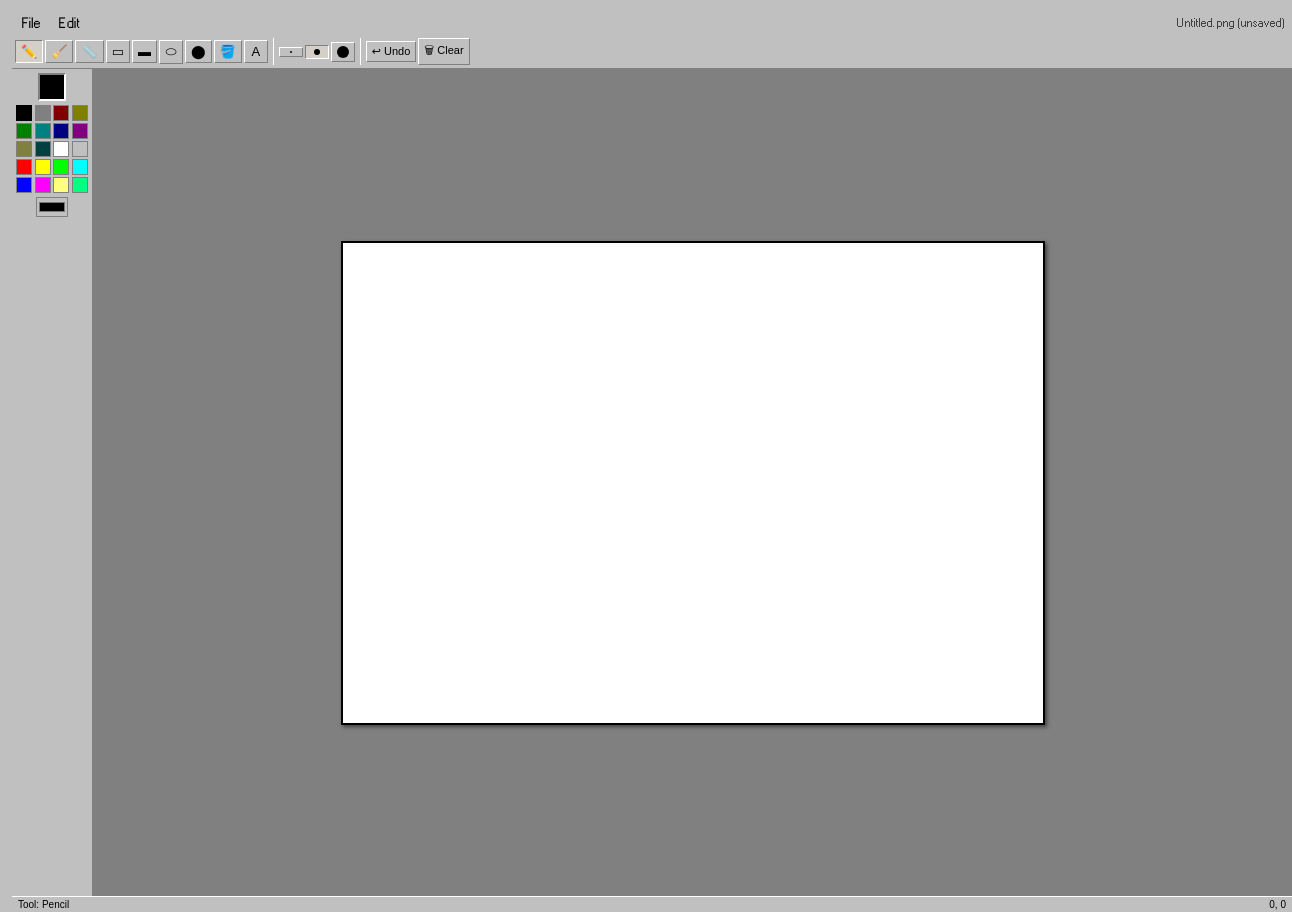
Test: Paint text tool › shows font, size and bold options only while the Text tool is selected
The image size is (1292, 912).
Expected: the field labelled "Bold" is not shown
Click the button named "Text": x=256, y=52 left=244, top=40, right=268, bottom=63
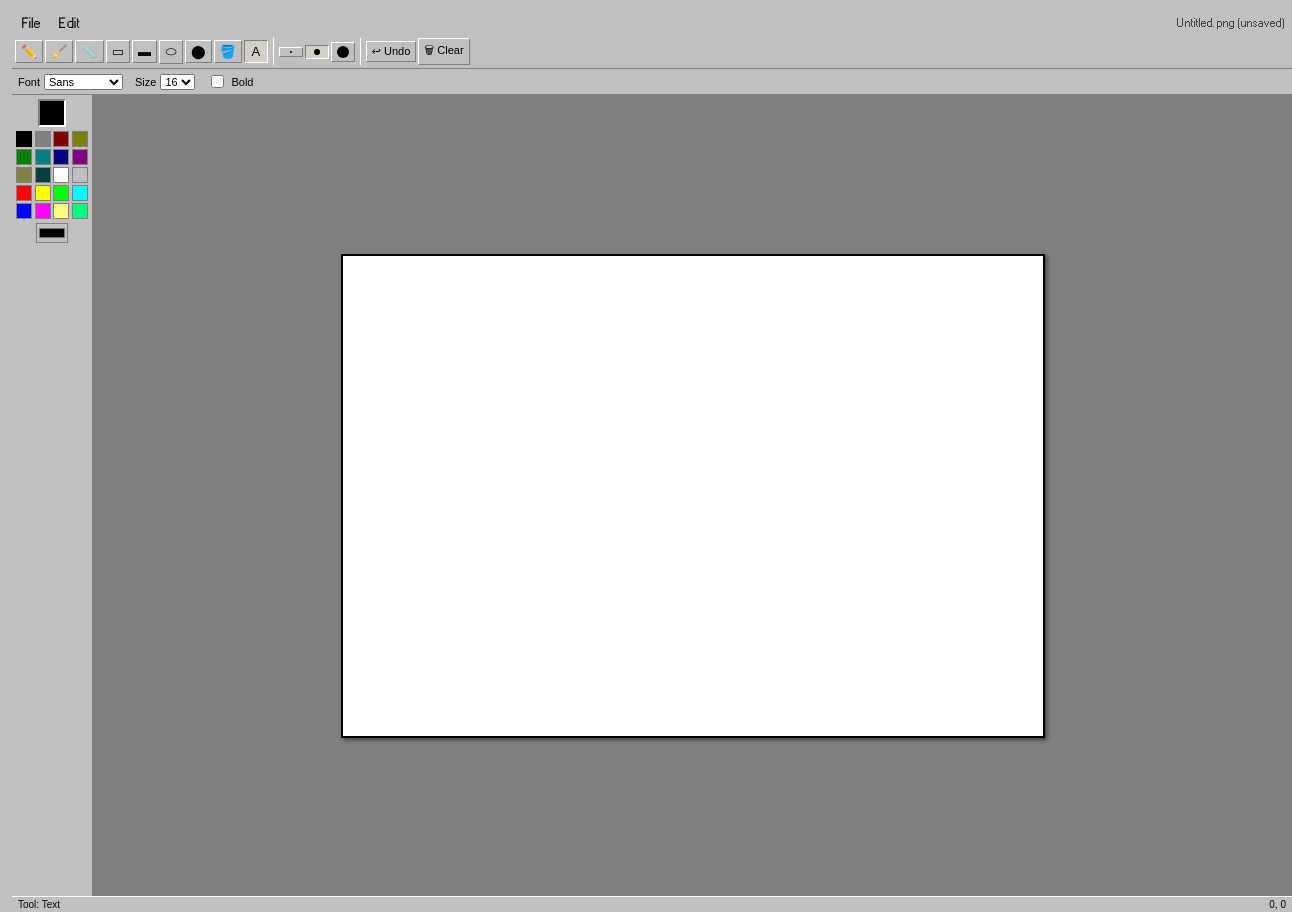
Now the checkbox labelled "Bold" is shown, box left=211, top=75, right=224, bottom=88
Now the dropdown labelled "Font" is shown, box left=44, top=74, right=123, bottom=90
Now the dropdown labelled "Size" is shown, box left=160, top=74, right=195, bottom=90
Click the button named "Pencil": x=29, y=52 left=15, top=40, right=43, bottom=63
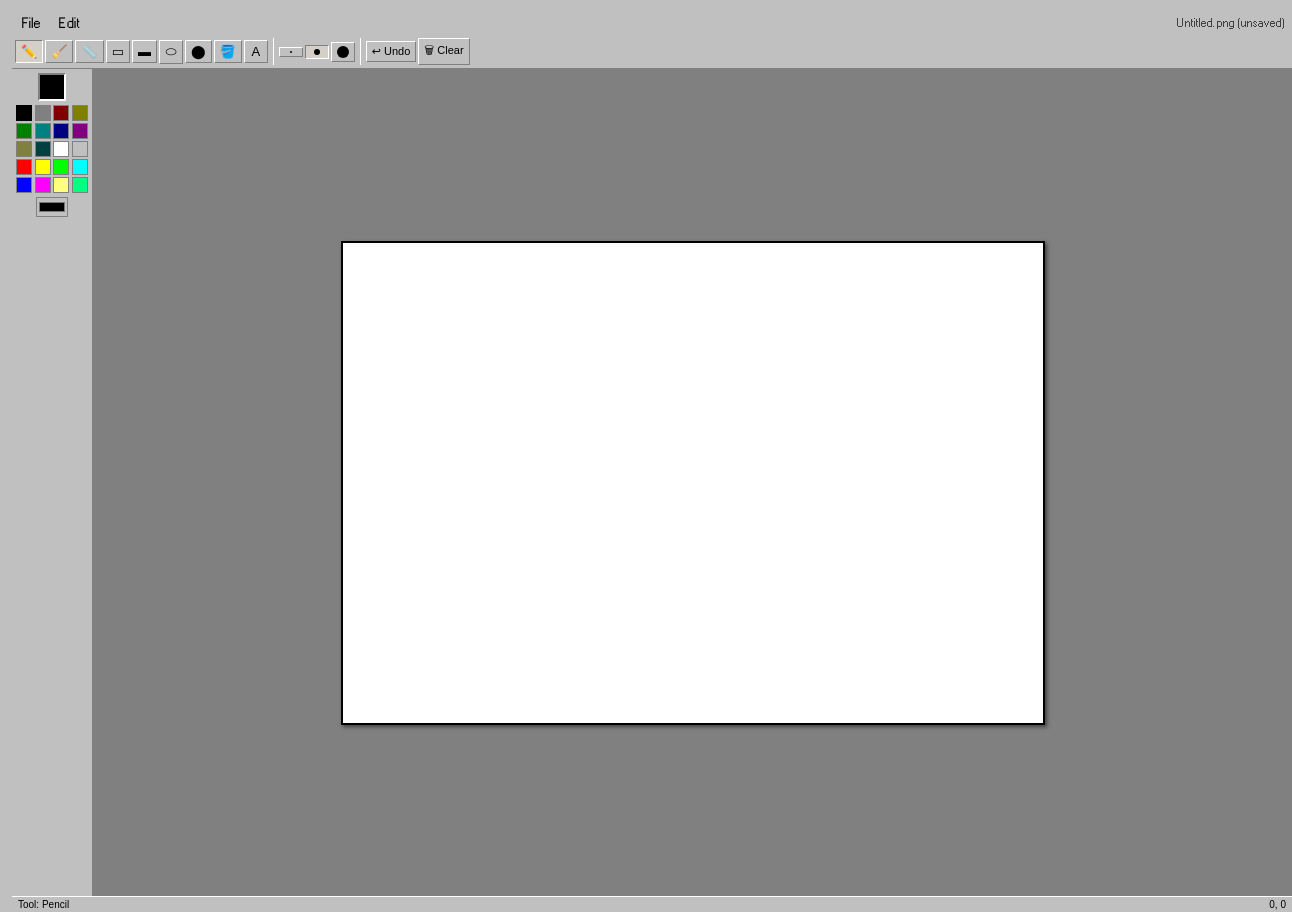
Now the label labelled "Bold" is gone
